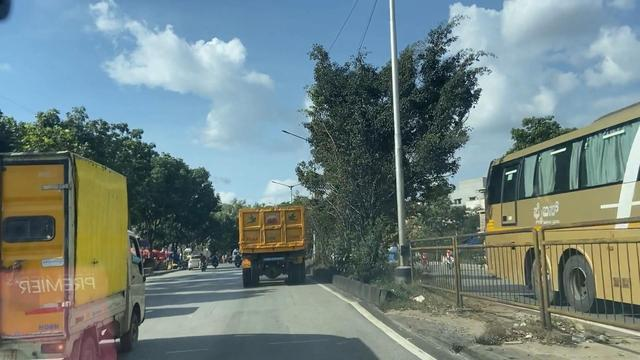HMV: (0, 148, 139, 358), (229, 202, 310, 290)
